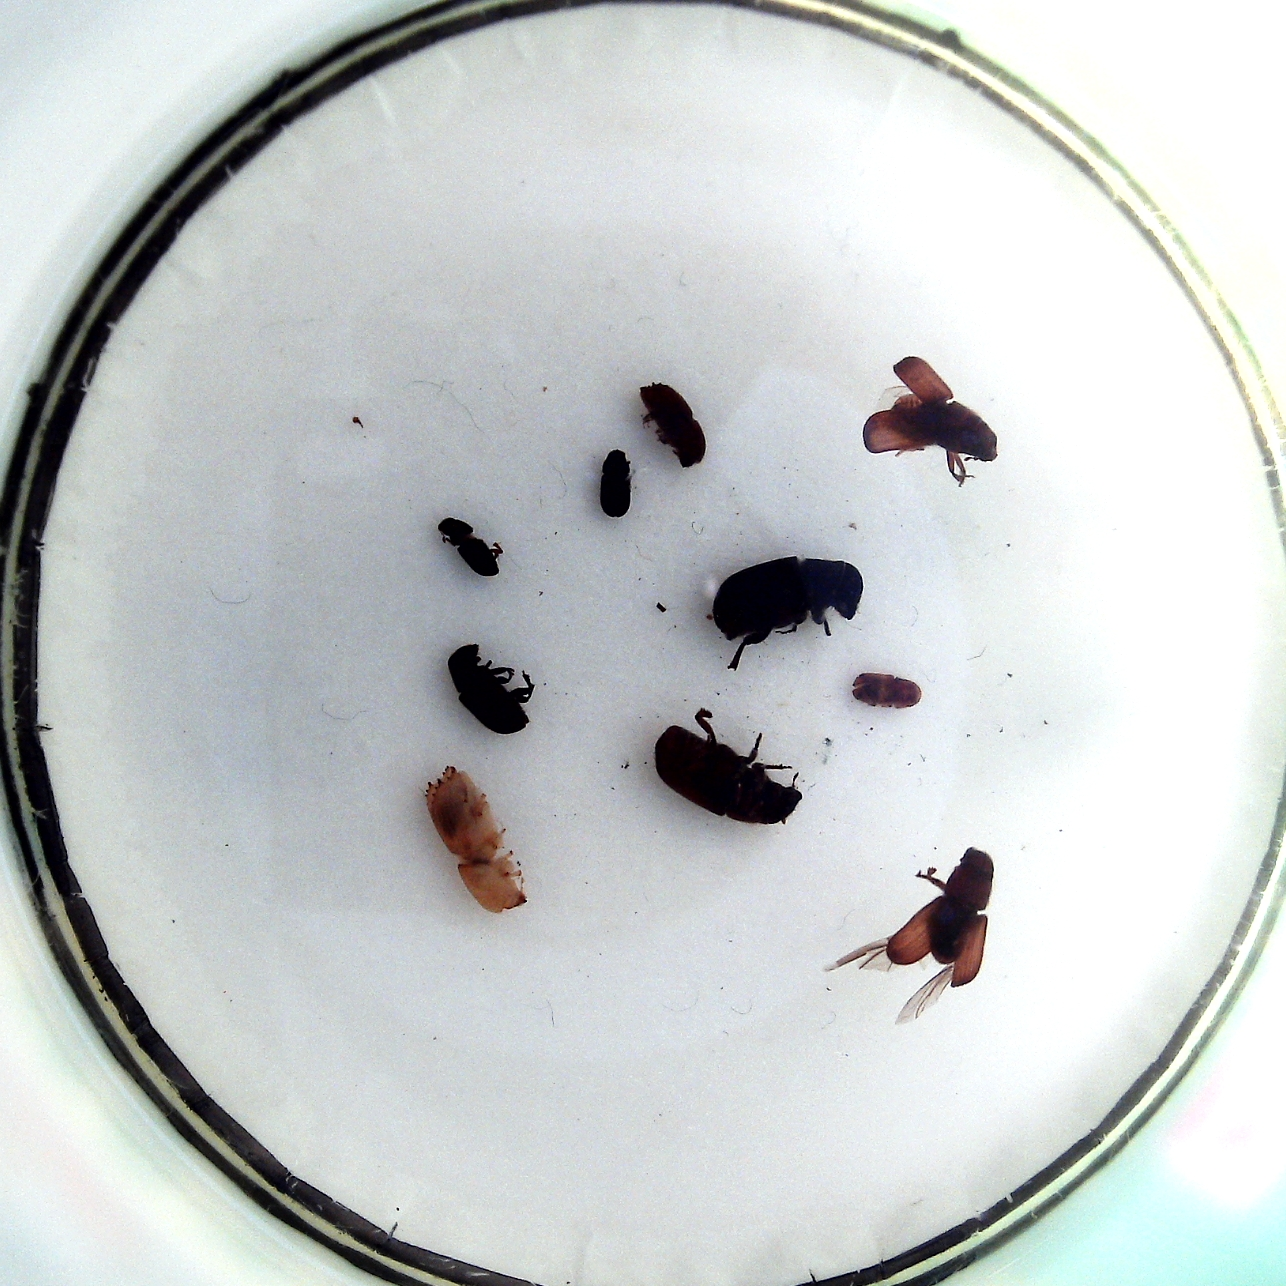Boerner: (424, 765, 526, 913)
Leconte: (886, 846, 992, 989), (656, 724, 803, 826), (711, 557, 866, 643), (888, 395, 997, 465)
acuminatus: (437, 518, 498, 576)
armandi: (448, 643, 531, 734)
coleoptera: (851, 671, 923, 712), (599, 448, 631, 518)
linnaeus: (639, 382, 705, 468)
